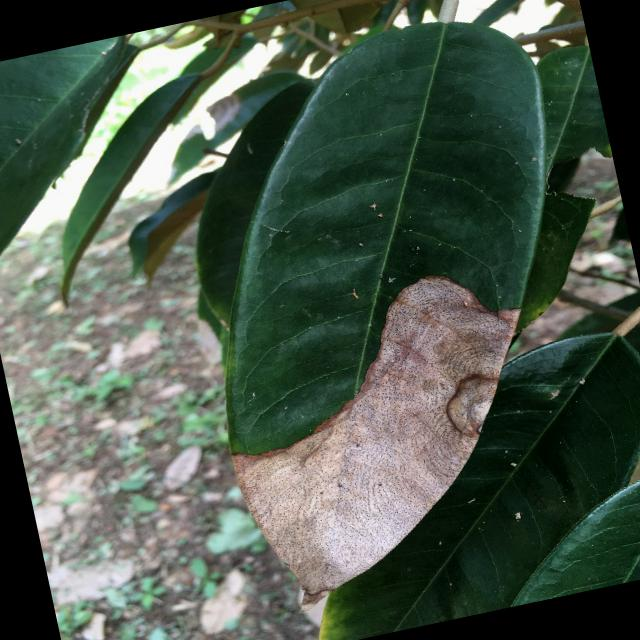Leaf Blight: (139, 0, 639, 628)
